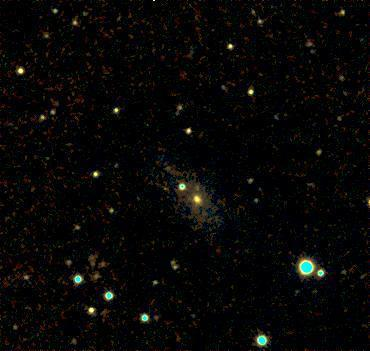star: (182, 174, 212, 204)
